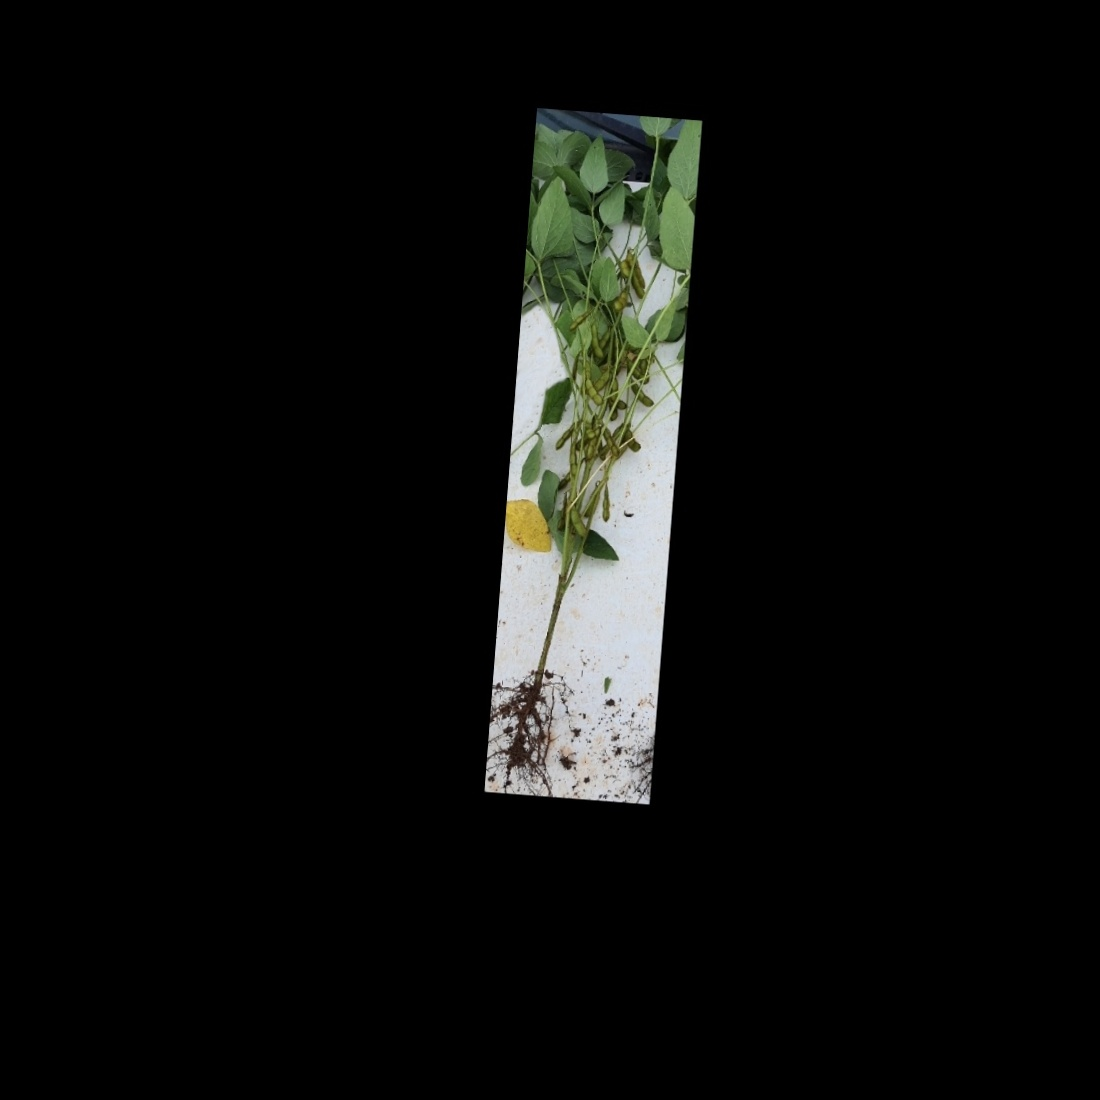pod: (549, 421, 577, 455), (627, 379, 657, 410), (598, 485, 618, 524), (587, 323, 608, 361), (565, 307, 594, 333), (582, 377, 607, 407), (602, 425, 621, 456), (628, 275, 647, 301), (611, 286, 628, 314), (556, 472, 572, 494), (617, 257, 632, 279)
soy: (494, 127, 692, 776)
